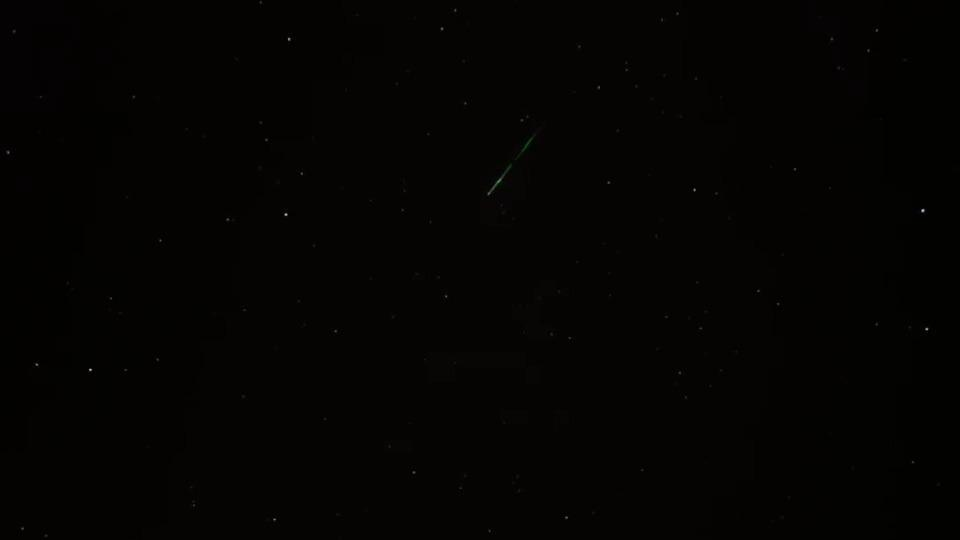meteorite: (473, 129, 546, 201)
